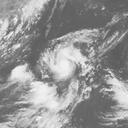cyclone: (37, 32, 90, 84)
